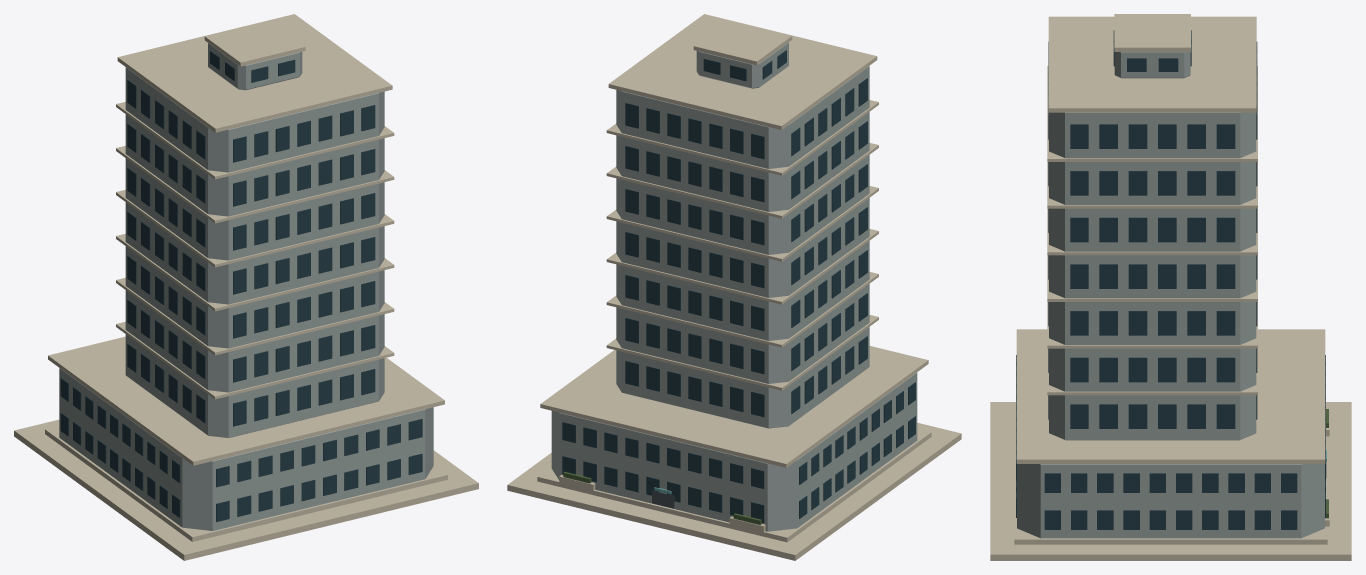
Rendered from office.glb.
3 renders of one model, left to right at view 1: azimuth 30°, elevation 25°; view 2: azimuth 150°, elevation 25°; view 3: azimuth 270°, elevation 25°, orthographic. The views are drawn at different scales.
Visible parts, largest first — view 1: office-tower, windows, roof-slabs, office-podium, foundation, office-cornices, plinth, roof-plant; view 2: office-tower, windows, roof-slabs, office-podium, foundation, office-cornices, plinth, roof-plant; view 3: office-tower, roof-slabs, windows, office-podium, foundation, office-cornices, plinth, roof-plant.
Part boxes in pixels (x1,y1,x2,y2): office-tower: (125, 67, 384, 437); windows: (60, 51, 422, 521); roof-slabs: (48, 14, 444, 465); office-podium: (59, 368, 433, 530); foundation: (14, 419, 478, 560); office-cornices: (116, 102, 394, 399); plinth: (45, 426, 447, 541); roof-plant: (208, 43, 302, 90); office-tower: (616, 66, 869, 428); windows: (562, 50, 915, 522); roof-slabs: (540, 14, 928, 467); office-podium: (551, 372, 917, 531); foundation: (507, 422, 961, 560); office-cornices: (606, 100, 878, 390); plinth: (537, 429, 931, 542); roof-plant: (696, 42, 788, 88); office-tower: (1049, 112, 1256, 440); roof-slabs: (1016, 14, 1325, 463); windows: (1016, 30, 1325, 529); office-podium: (1017, 464, 1324, 538); foundation: (990, 402, 1351, 560); office-cornices: (1047, 66, 1257, 395); plinth: (1014, 407, 1327, 544); roof-plant: (1114, 52, 1190, 78).
Size of the model in its own units: 15.52 by 21.52 by 15.52.
